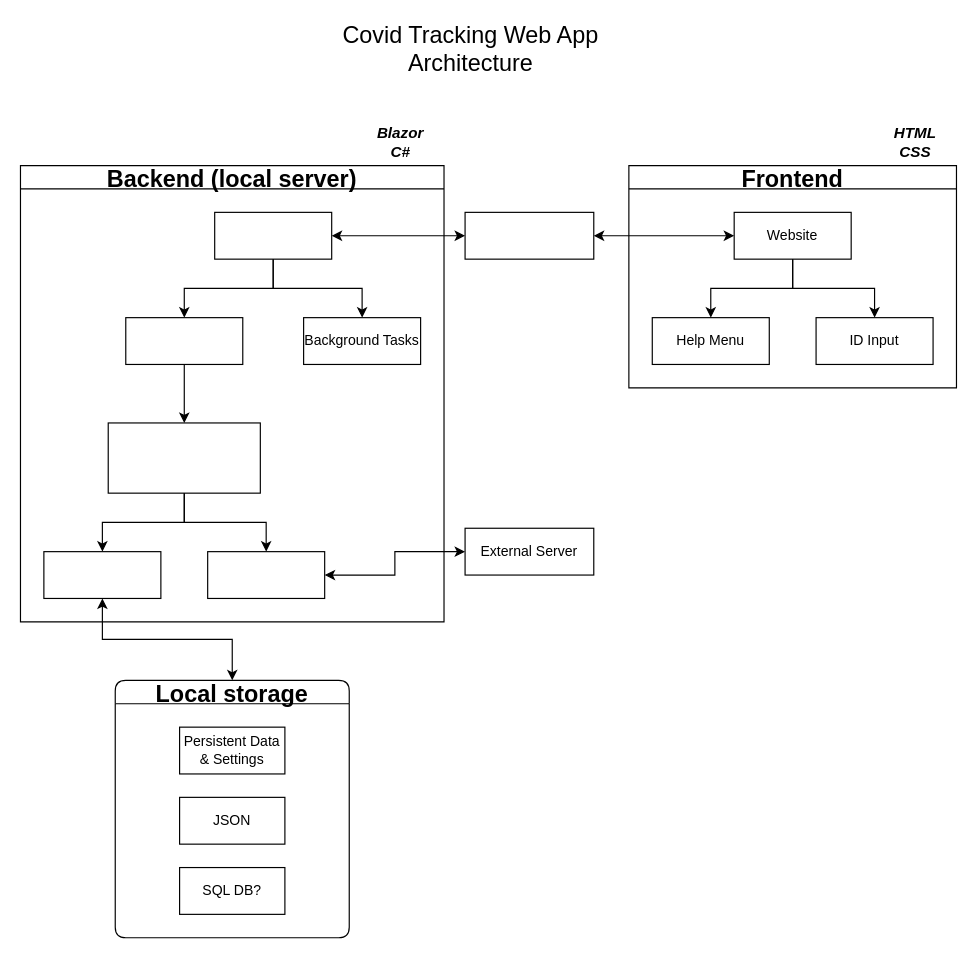
This 977x958 diagram has some shape labels left out. Here are the shapes that lost their labels. From the top down, the centre of each, then its label:
[273,235]: Background Thread
[529,235]: Frontend Listener
[184,340]: IO
[183,457]: Verification, Encryption & Compression
[102,574]: Internal Storage
[266,574]: External Transmission
